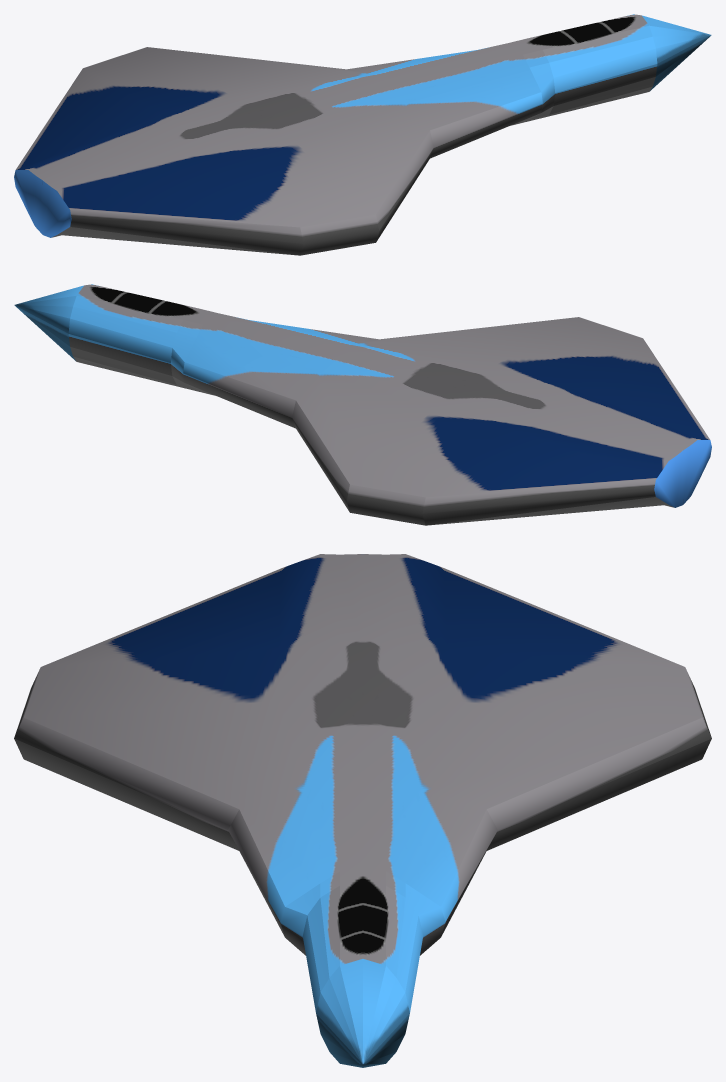
Rendered from Fighter.glb.
The picture shows the model from 3 angles, top to bottom: view 1: azimuth 30°, elevation 25°; view 2: azimuth 150°, elevation 25°; view 3: azimuth 270°, elevation 25°; orthographic projection. The views are drawn at different scales.
Parts seen in each view (by area): view 1: Fighter; view 2: Fighter; view 3: Fighter.
Part boxes in pixels (x1,y1,x2,y2): Fighter: [14, 14, 711, 255]; Fighter: [14, 284, 711, 525]; Fighter: [14, 554, 711, 1067].
Bounding box in the file's own units: 19 × 2 × 11.58.
Materials: 1 (1 with a texture image).
